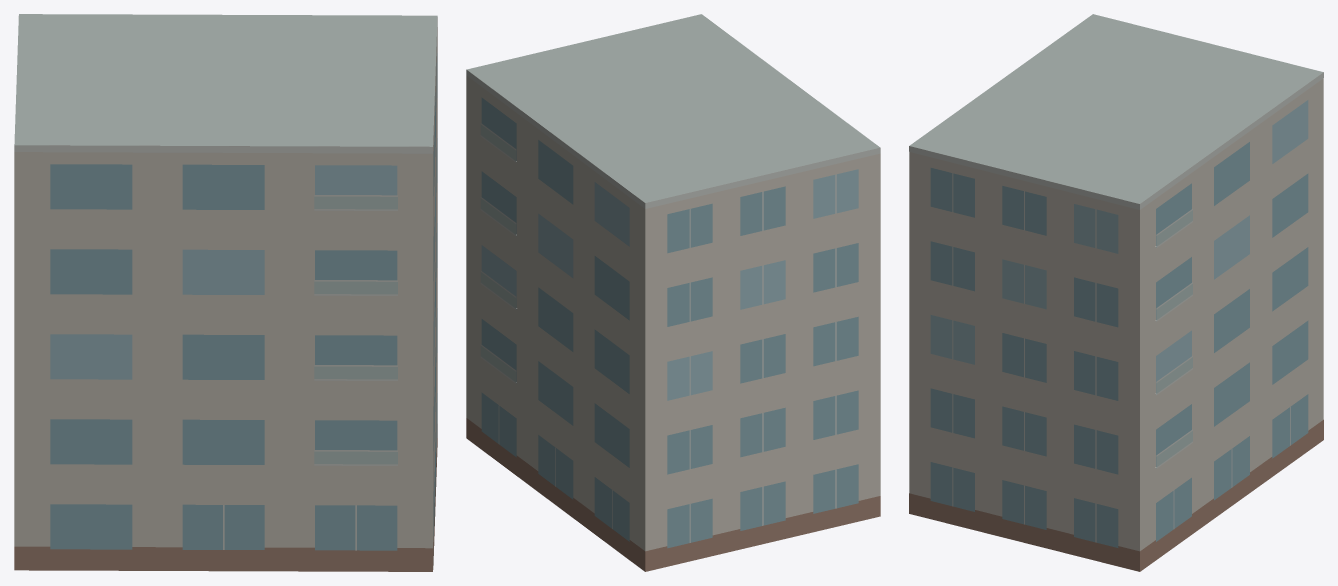
File: survey-upis-32732464.glb
3 renders of one model, left to right at view 1: azimuth 30°, elevation 25°; view 2: azimuth 150°, elevation 25°; view 3: azimuth 270°, elevation 25°, orthographic. The views are drawn at different scales.
Visible parts, largest first — view 1: survey-upis-32732464.tmp; view 2: survey-upis-32732464.tmp; view 3: survey-upis-32732464.tmp.
Boxes of the visible parts, x1,y1,x2,y2 form: survey-upis-32732464.tmp: [14, 14, 437, 571]; survey-upis-32732464.tmp: [466, 14, 880, 571]; survey-upis-32732464.tmp: [909, 14, 1323, 571].
Bounding box in the file's own units: 16.91 × 15.25 × 15.59.
